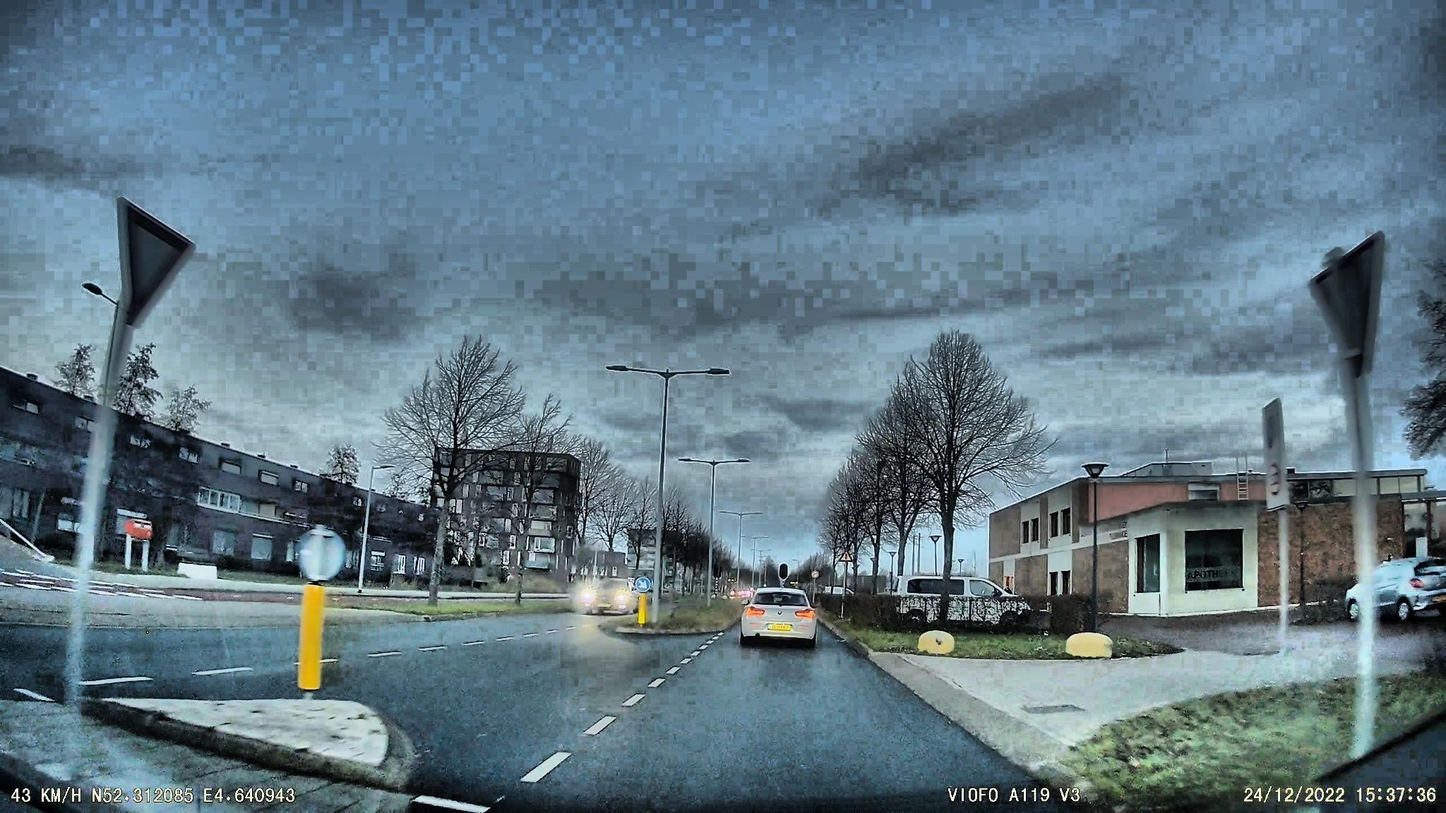Roads: (311, 611, 1077, 813), (0, 588, 296, 702)
